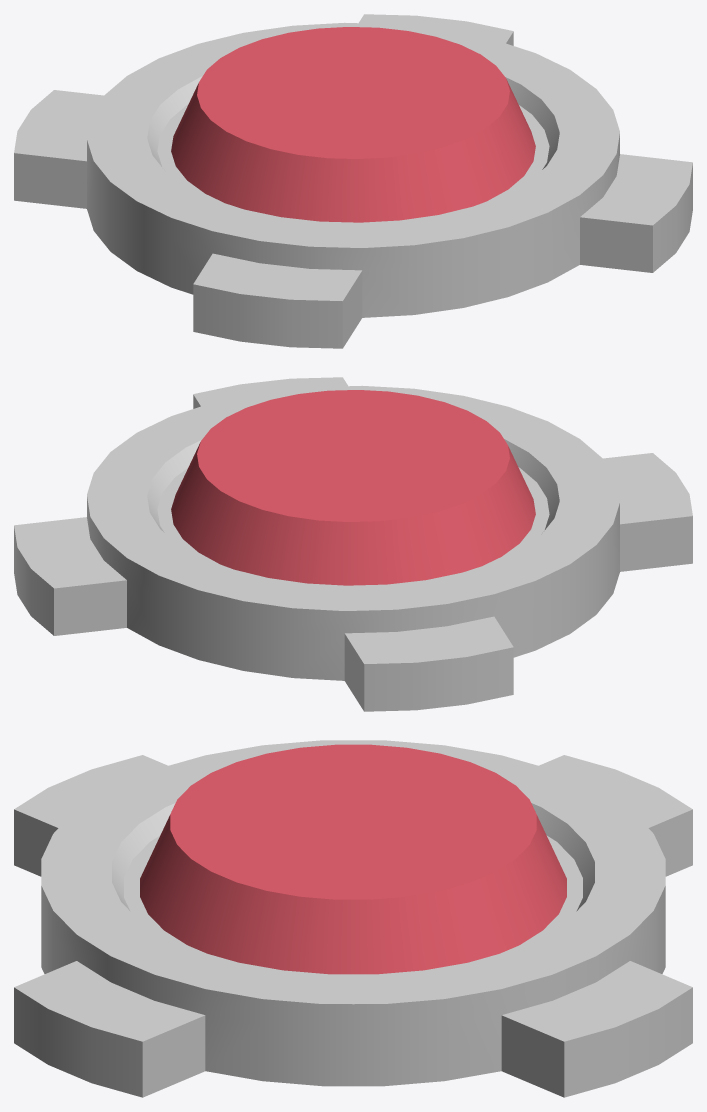
File: Mine.fbx
3 renders of one model, top to bottom at view 1: azimuth 30°, elevation 25°; view 2: azimuth 150°, elevation 25°; view 3: azimuth 270°, elevation 25°, orthographic. The views are drawn at different scales.
Visible parts, largest first — view 1: Circle; view 2: Circle; view 3: Circle.
Boxes of the visible parts, x1=… form: Circle: x1=14, y1=14, x2=692, y2=348; Circle: x1=14, y1=377, x2=692, y2=711; Circle: x1=14, y1=740, x2=692, y2=1097.
Size of the model in its own units: 216 by 46.45 by 216.
